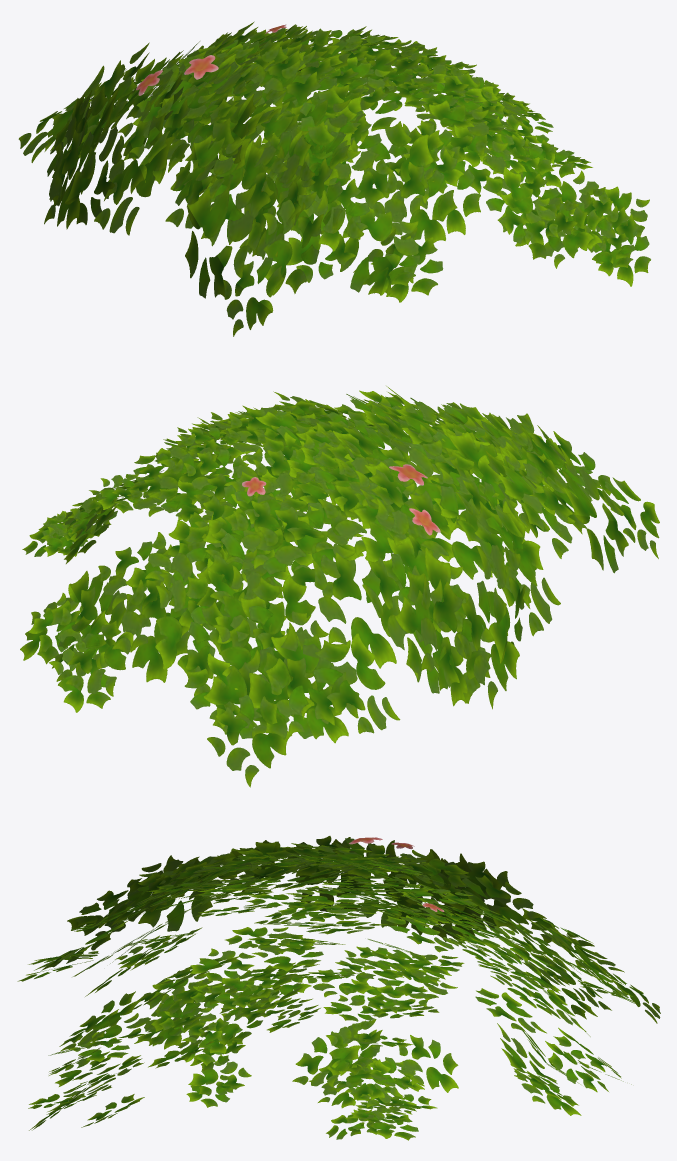
File: P_IvyCoastalCurved03.obj
The picture shows the model from 3 angles, top to bottom: view 1: azimuth 30°, elevation 25°; view 2: azimuth 150°, elevation 25°; view 3: azimuth 270°, elevation 25°; orthographic projection. The views are drawn at different scales.
Size of the model in its own units: 6.74 by 2.89 by 8.07.
